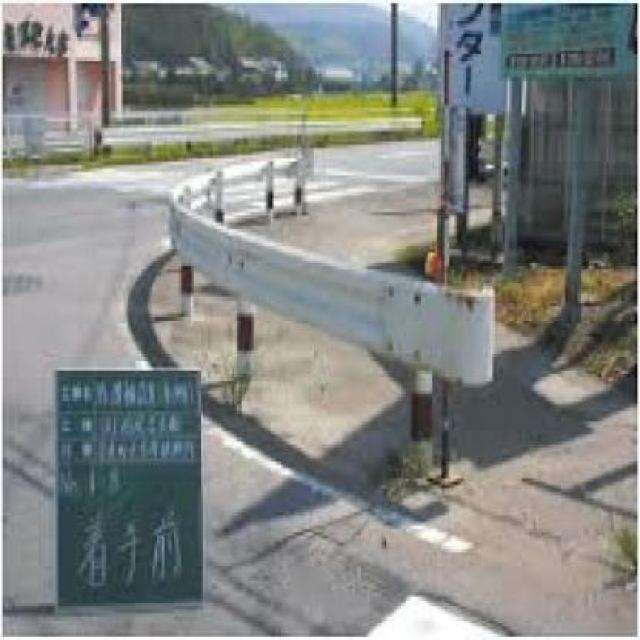Guard rail: (165, 148, 497, 483)
